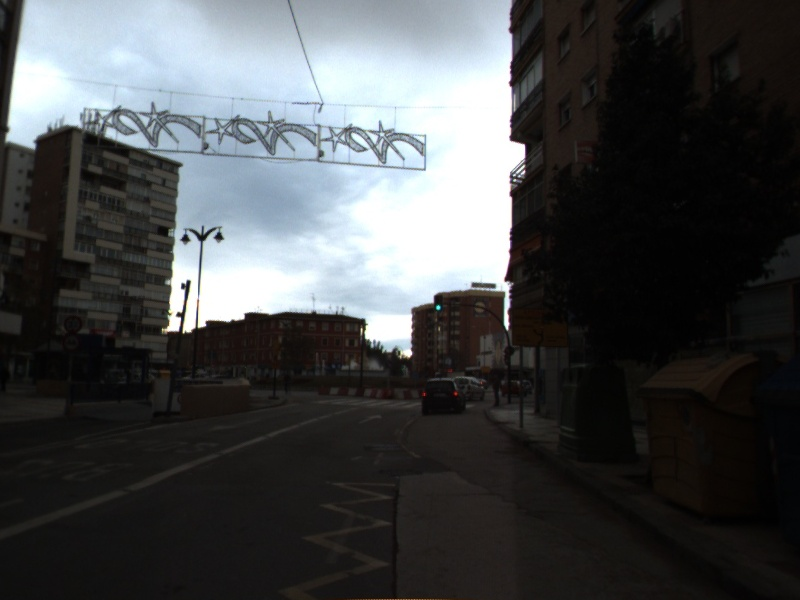STRAIGHT: (356, 412, 384, 426)
